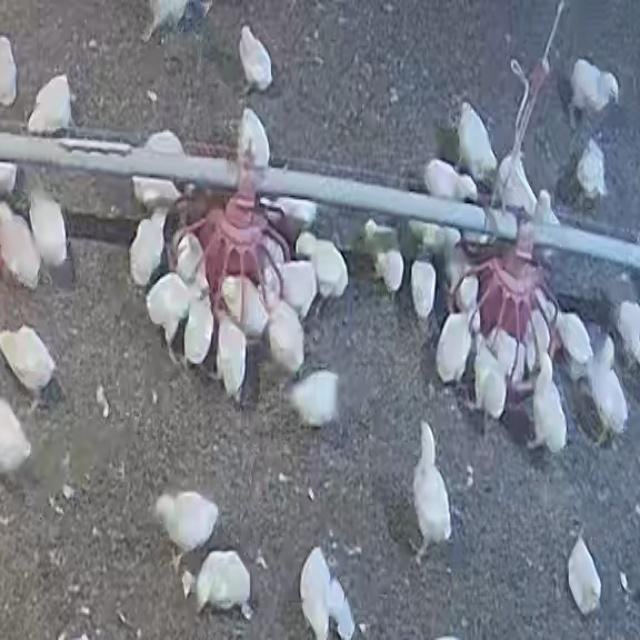chicken: (406, 420, 457, 561), (299, 547, 358, 640), (0, 324, 59, 407), (143, 272, 199, 357), (129, 135, 189, 209), (294, 232, 350, 311), (586, 336, 628, 440), (528, 342, 566, 456), (154, 491, 218, 557), (194, 549, 253, 619), (27, 181, 69, 273), (253, 181, 322, 237), (0, 201, 42, 292), (27, 75, 76, 148), (456, 103, 499, 186), (284, 365, 340, 428), (567, 59, 619, 126), (264, 298, 307, 379), (128, 205, 169, 288), (486, 318, 527, 399), (263, 260, 316, 322), (566, 532, 604, 618), (472, 332, 508, 422), (361, 221, 405, 294), (435, 308, 474, 387), (220, 272, 267, 337), (546, 304, 594, 366), (216, 312, 249, 402), (171, 225, 210, 301), (183, 280, 215, 367), (445, 236, 480, 315), (498, 151, 539, 218), (522, 304, 553, 390), (422, 159, 476, 207), (531, 188, 561, 272), (402, 218, 463, 259), (573, 136, 609, 204), (238, 23, 272, 93), (238, 103, 272, 171), (410, 258, 437, 320)
